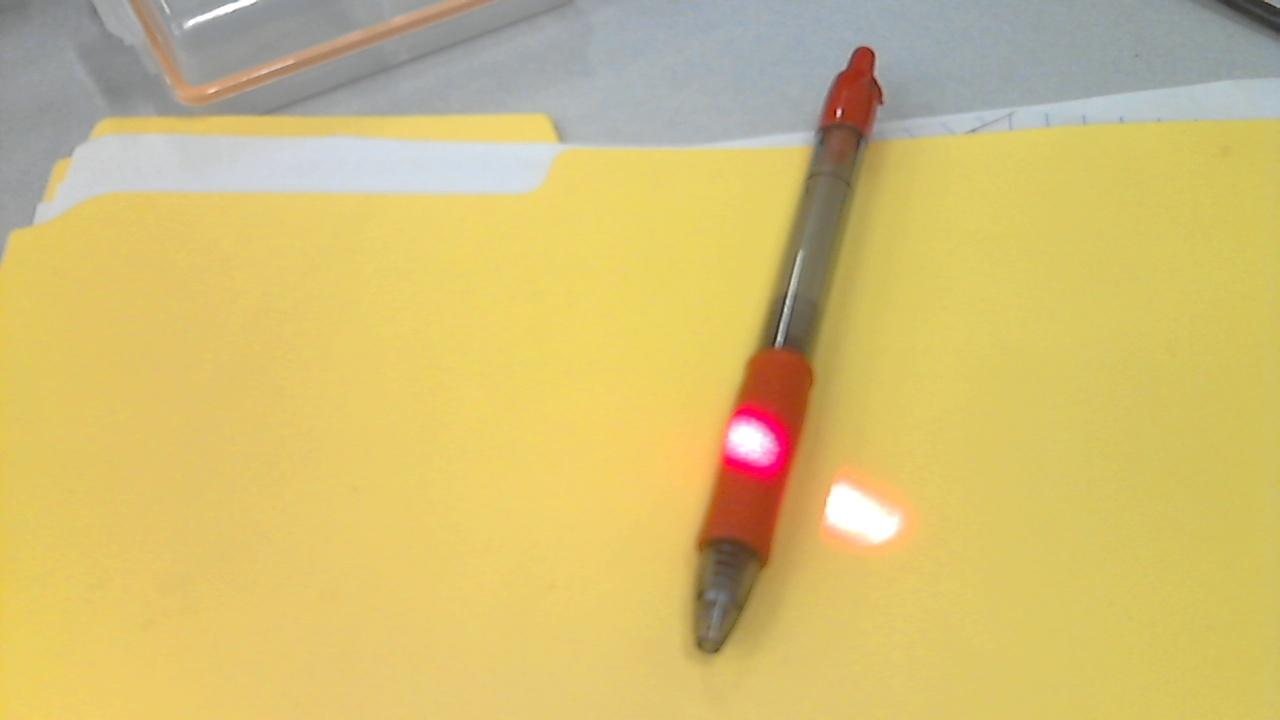Object ballpoint pen - Material rubber - Color red - Pdfname Tg2wygrqE5uZ: (718, 403, 794, 485)
